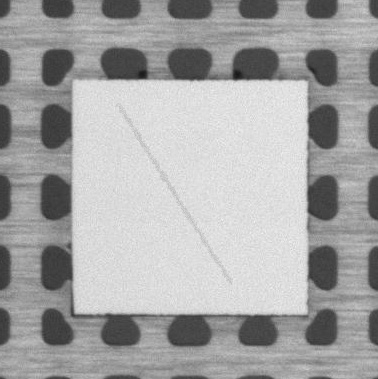DIE_CRACK: (119, 106, 230, 284)
